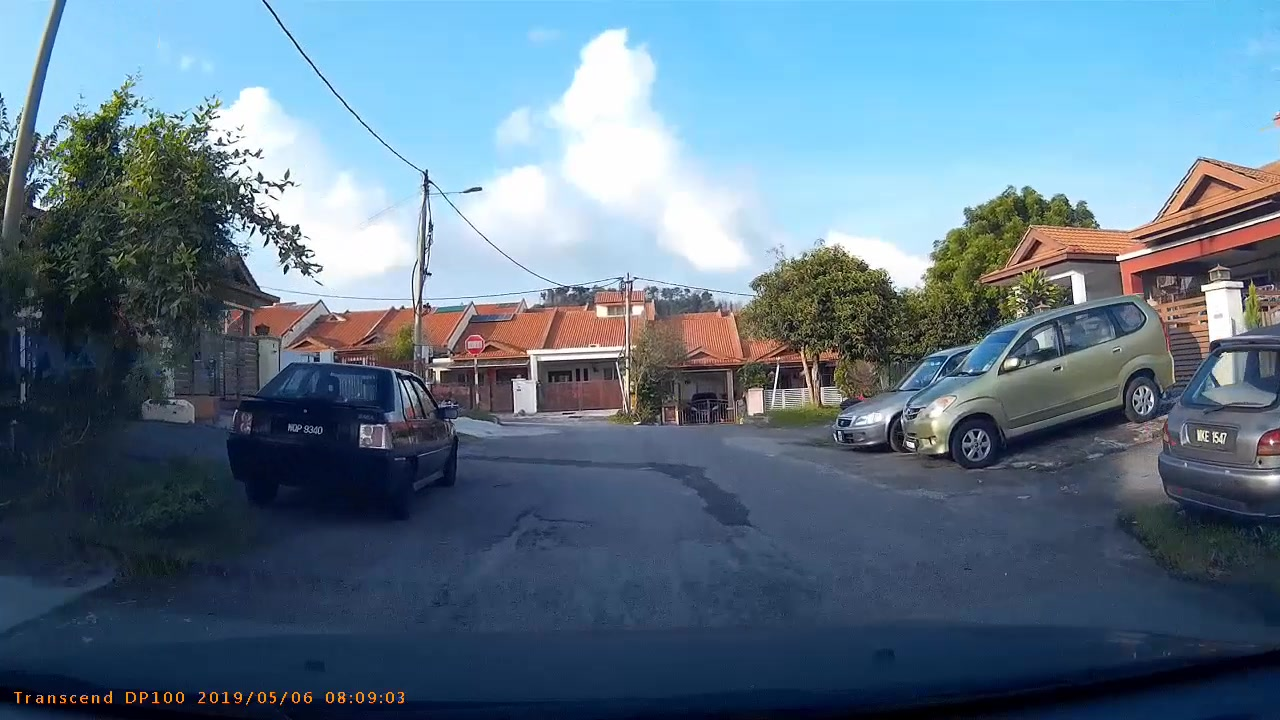license-plate: (274, 415, 334, 441), (1187, 423, 1237, 453)
